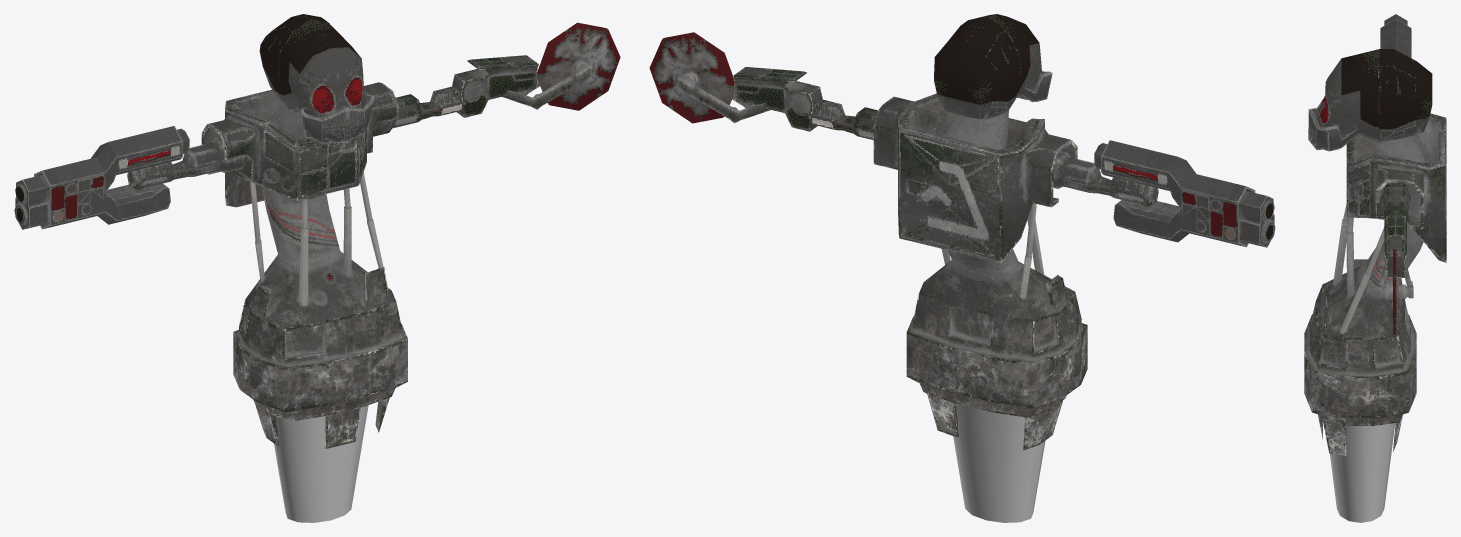
File: the_enemy.gltf
The picture shows the model from 3 angles, left to right: view 1: azimuth 30°, elevation 25°; view 2: azimuth 150°, elevation 25°; view 3: azimuth 270°, elevation 25°; orthographic projection. The views are drawn at different scales.
Visible parts, largest first — view 1: body_unwrapped, Rarm1_unwrapped, head_unwrapped, Thruster1.003, Larm2_unwrapped.002, Larm1_unwrapped, Rarm0_unwrapped, Larm0_unwrapped; view 2: body_unwrapped, Rarm1_unwrapped, head_unwrapped, Thruster1.003, Larm2_unwrapped.002, Larm1_unwrapped, Rarm0_unwrapped, Larm0_unwrapped; view 3: body_unwrapped, head_unwrapped, Thruster1.003, Larm1_unwrapped, Rarm1_unwrapped, Larm0_unwrapped, Larm2_unwrapped.002.
Part boxes in pixels (bbox=[...]): body_unwrapped: bbox=[201, 82, 407, 448]; Rarm1_unwrapped: bbox=[14, 126, 189, 229]; head_unwrapped: bbox=[259, 14, 374, 143]; Thruster1.003: bbox=[274, 405, 368, 522]; Larm2_unwrapped.002: bbox=[537, 22, 620, 110]; Larm1_unwrapped: bbox=[452, 55, 591, 117]; Rarm0_unwrapped: bbox=[127, 137, 246, 189]; Larm0_unwrapped: bbox=[373, 86, 462, 136]; body_unwrapped: bbox=[873, 93, 1087, 450]; Rarm1_unwrapped: bbox=[1094, 140, 1275, 247]; head_unwrapped: bbox=[934, 14, 1052, 119]; Thruster1.003: bbox=[953, 403, 1045, 522]; Larm2_unwrapped.002: bbox=[649, 32, 734, 123]; Larm1_unwrapped: bbox=[677, 67, 822, 131]; Rarm0_unwrapped: bbox=[1053, 151, 1158, 206]; Larm0_unwrapped: bbox=[799, 99, 878, 139]; body_unwrapped: bbox=[1304, 113, 1446, 455]; head_unwrapped: bbox=[1308, 49, 1432, 151]; Thruster1.003: bbox=[1330, 423, 1395, 522]; Larm1_unwrapped: bbox=[1378, 217, 1413, 299]; Rarm1_unwrapped: bbox=[1380, 14, 1411, 58]; Larm0_unwrapped: bbox=[1381, 183, 1410, 219]; Larm2_unwrapped.002: bbox=[1393, 249, 1396, 334].
Size of the model in its own units: 4.04 by 3.12 by 0.8766.
Materials: 1 (1 with a texture image).
